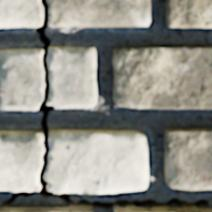brick: (112, 48, 211, 109), (165, 129, 211, 189), (166, 0, 211, 27), (0, 208, 93, 211), (115, 209, 211, 211)
broken_brick: (46, 129, 149, 194), (48, 47, 97, 109), (49, 0, 151, 27), (0, 130, 43, 193), (0, 49, 43, 111), (0, 0, 43, 28)
crack: (2, 0, 209, 211), (207, 150, 211, 155)
